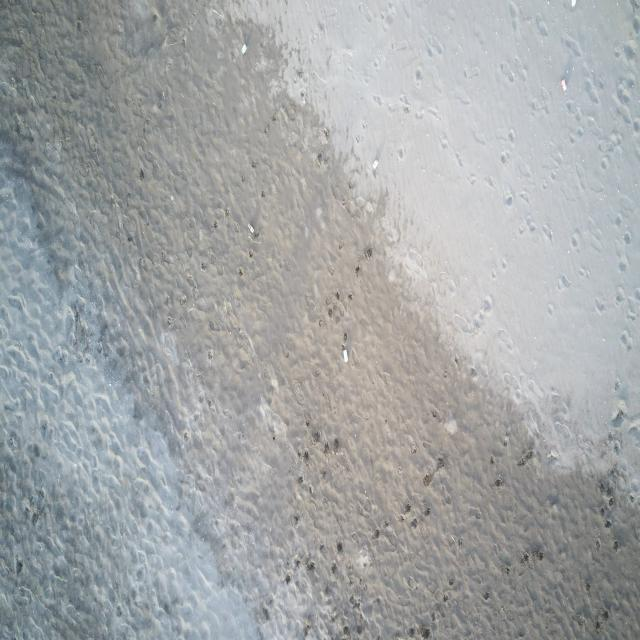tin-and-aluminum-cans: (560, 78, 567, 92), (342, 349, 349, 363), (372, 157, 379, 170), (248, 222, 255, 234), (569, 0, 577, 9), (241, 44, 247, 54)
